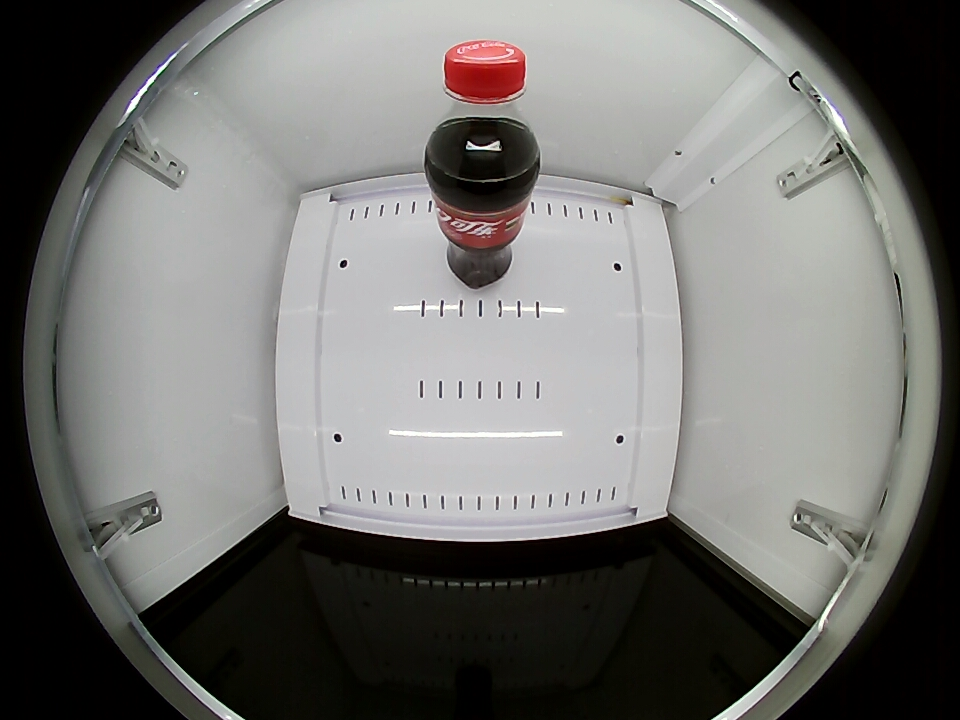kele-b: (428, 40, 536, 179)
